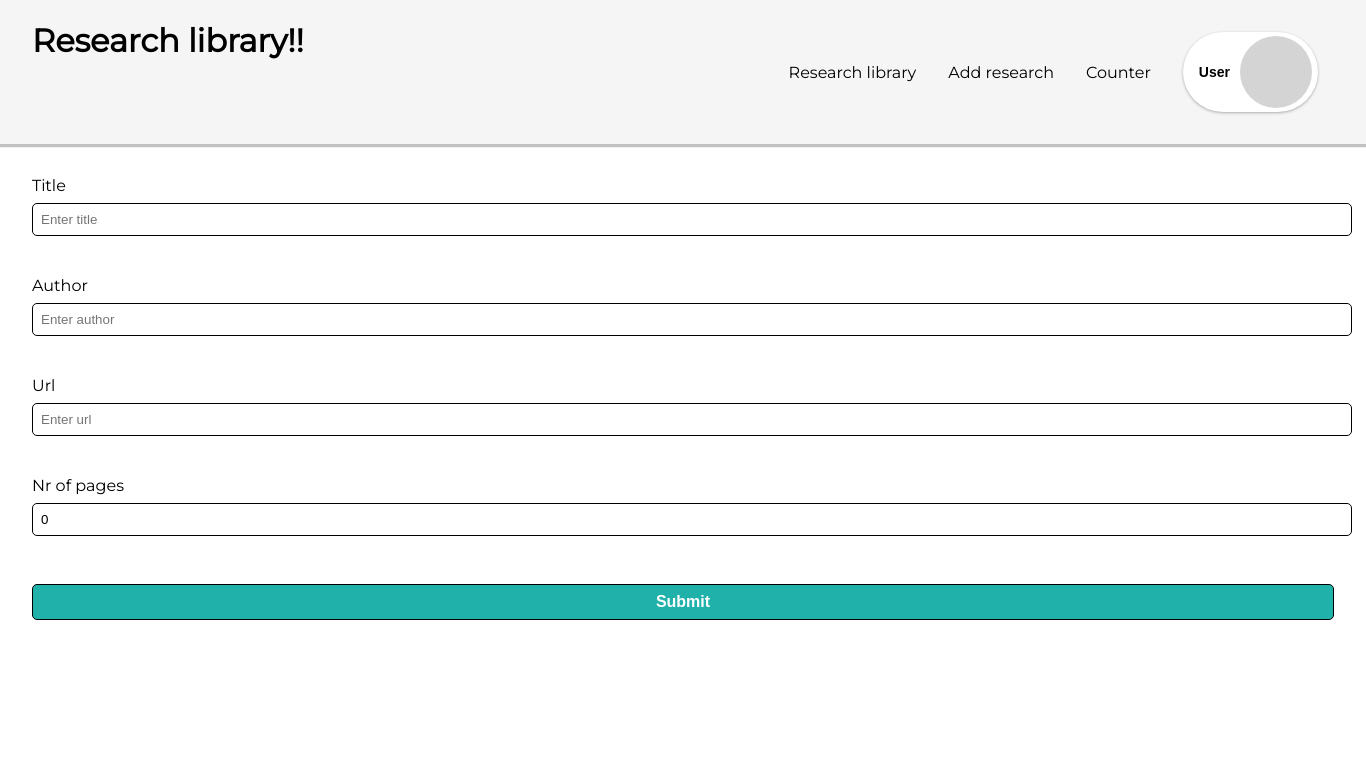
Scenario: Index testen › Add research tests › Test data-required error
Click the button with class "submit" at (683, 602), box [32,584,1334,620]
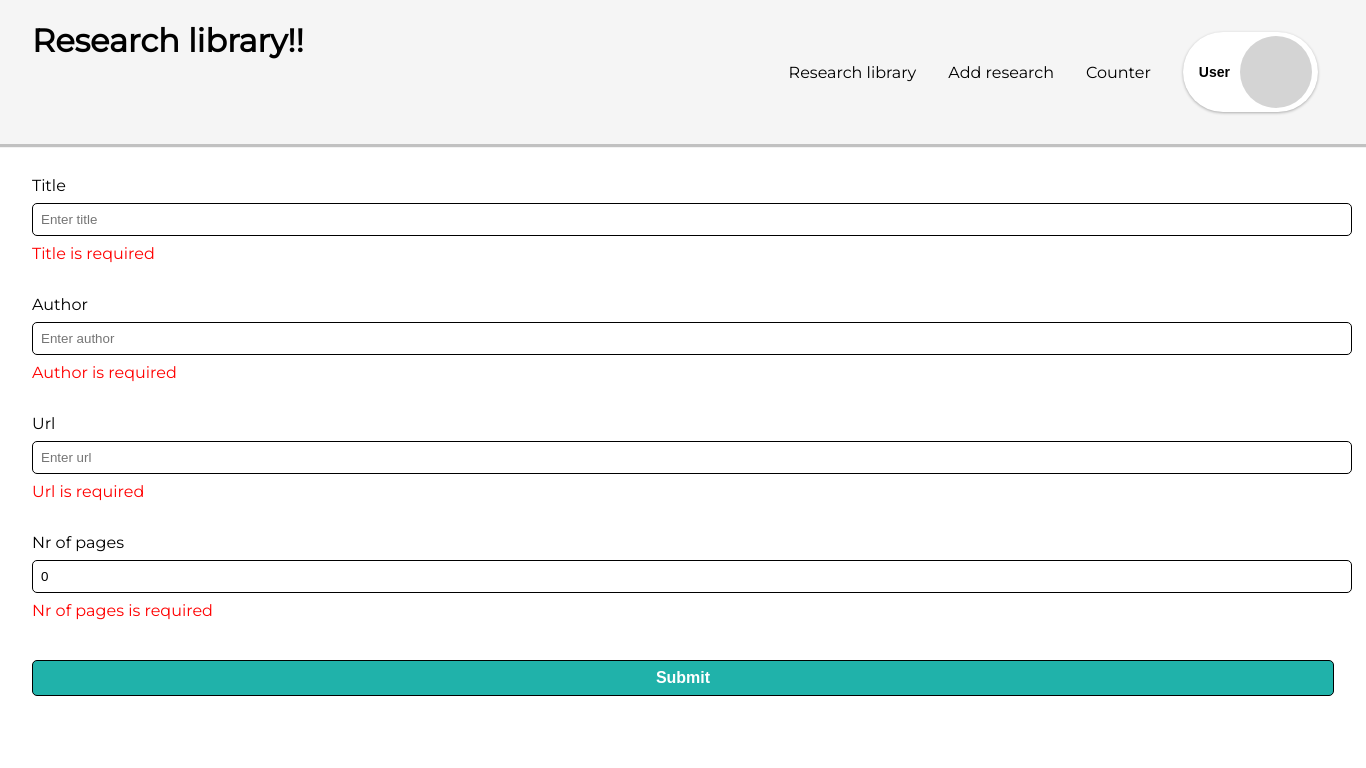
Expected: the text with class "error-text" reads "Title is required", [32,244,155,263]
Expected: the text with class "error-text" reads "Author is required", [32,363,177,382]
Expected: the text with class "error-text" reads "Url is required", [32,482,144,501]
